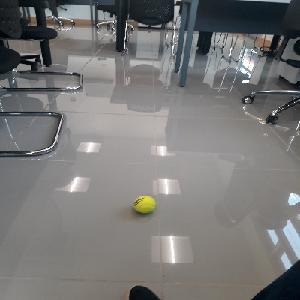Ball: (132, 196, 154, 214)
